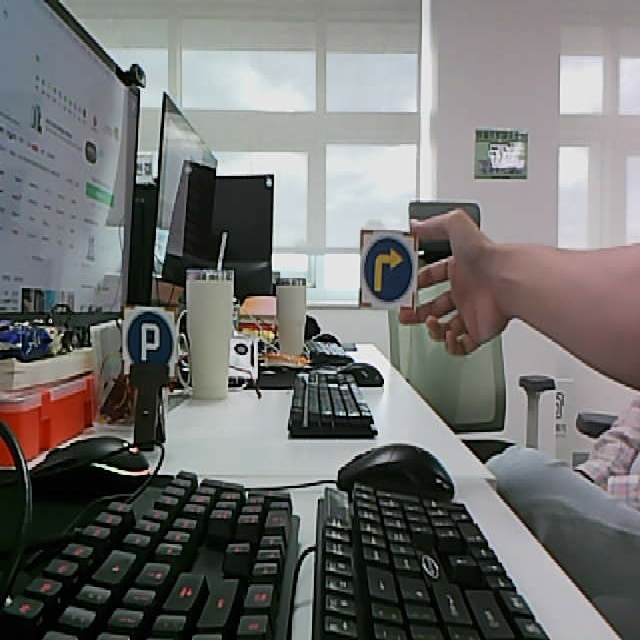right: (357, 229, 420, 314)
